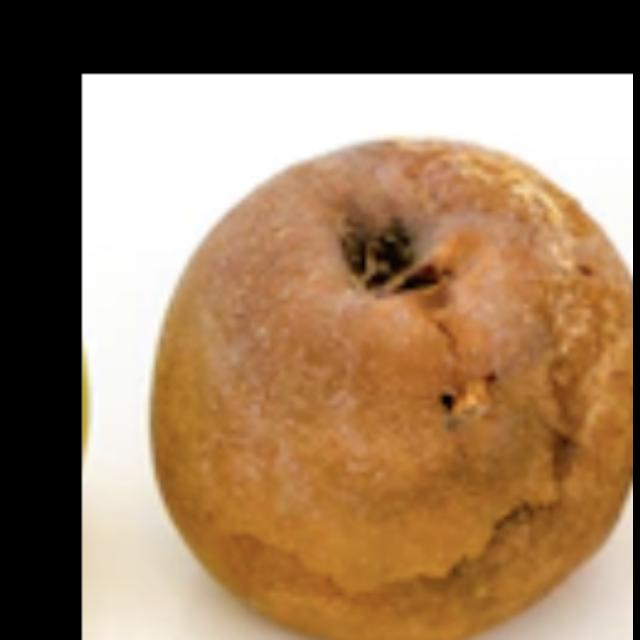Apel Tidak Segar: (143, 130, 632, 640)
